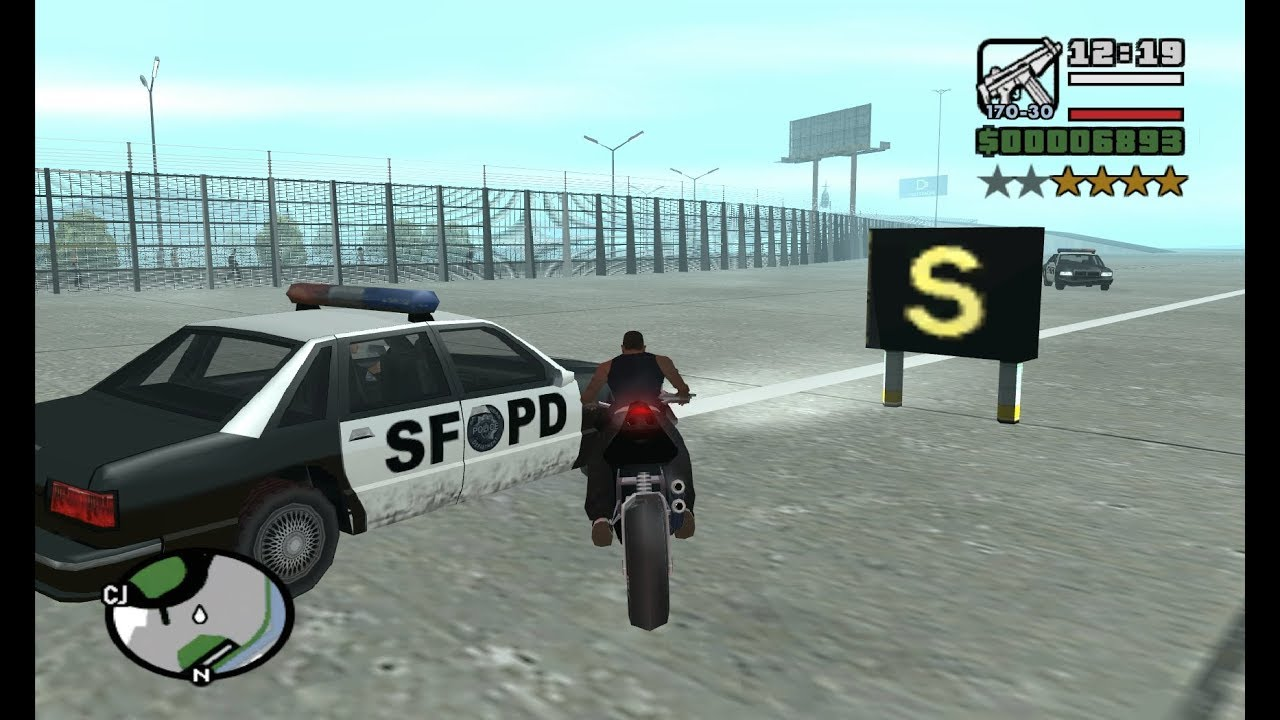bike: (591, 365, 699, 636)
car: (42, 316, 638, 573), (1046, 243, 1115, 296)
